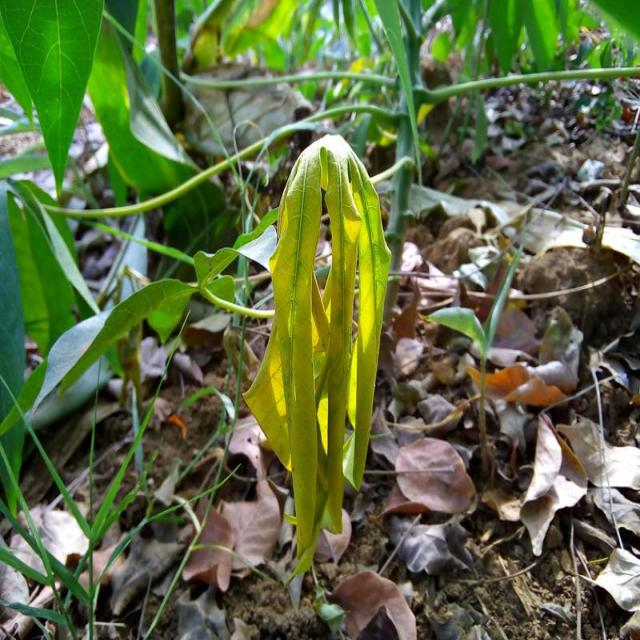cassava leaf: (239, 131, 392, 595)
